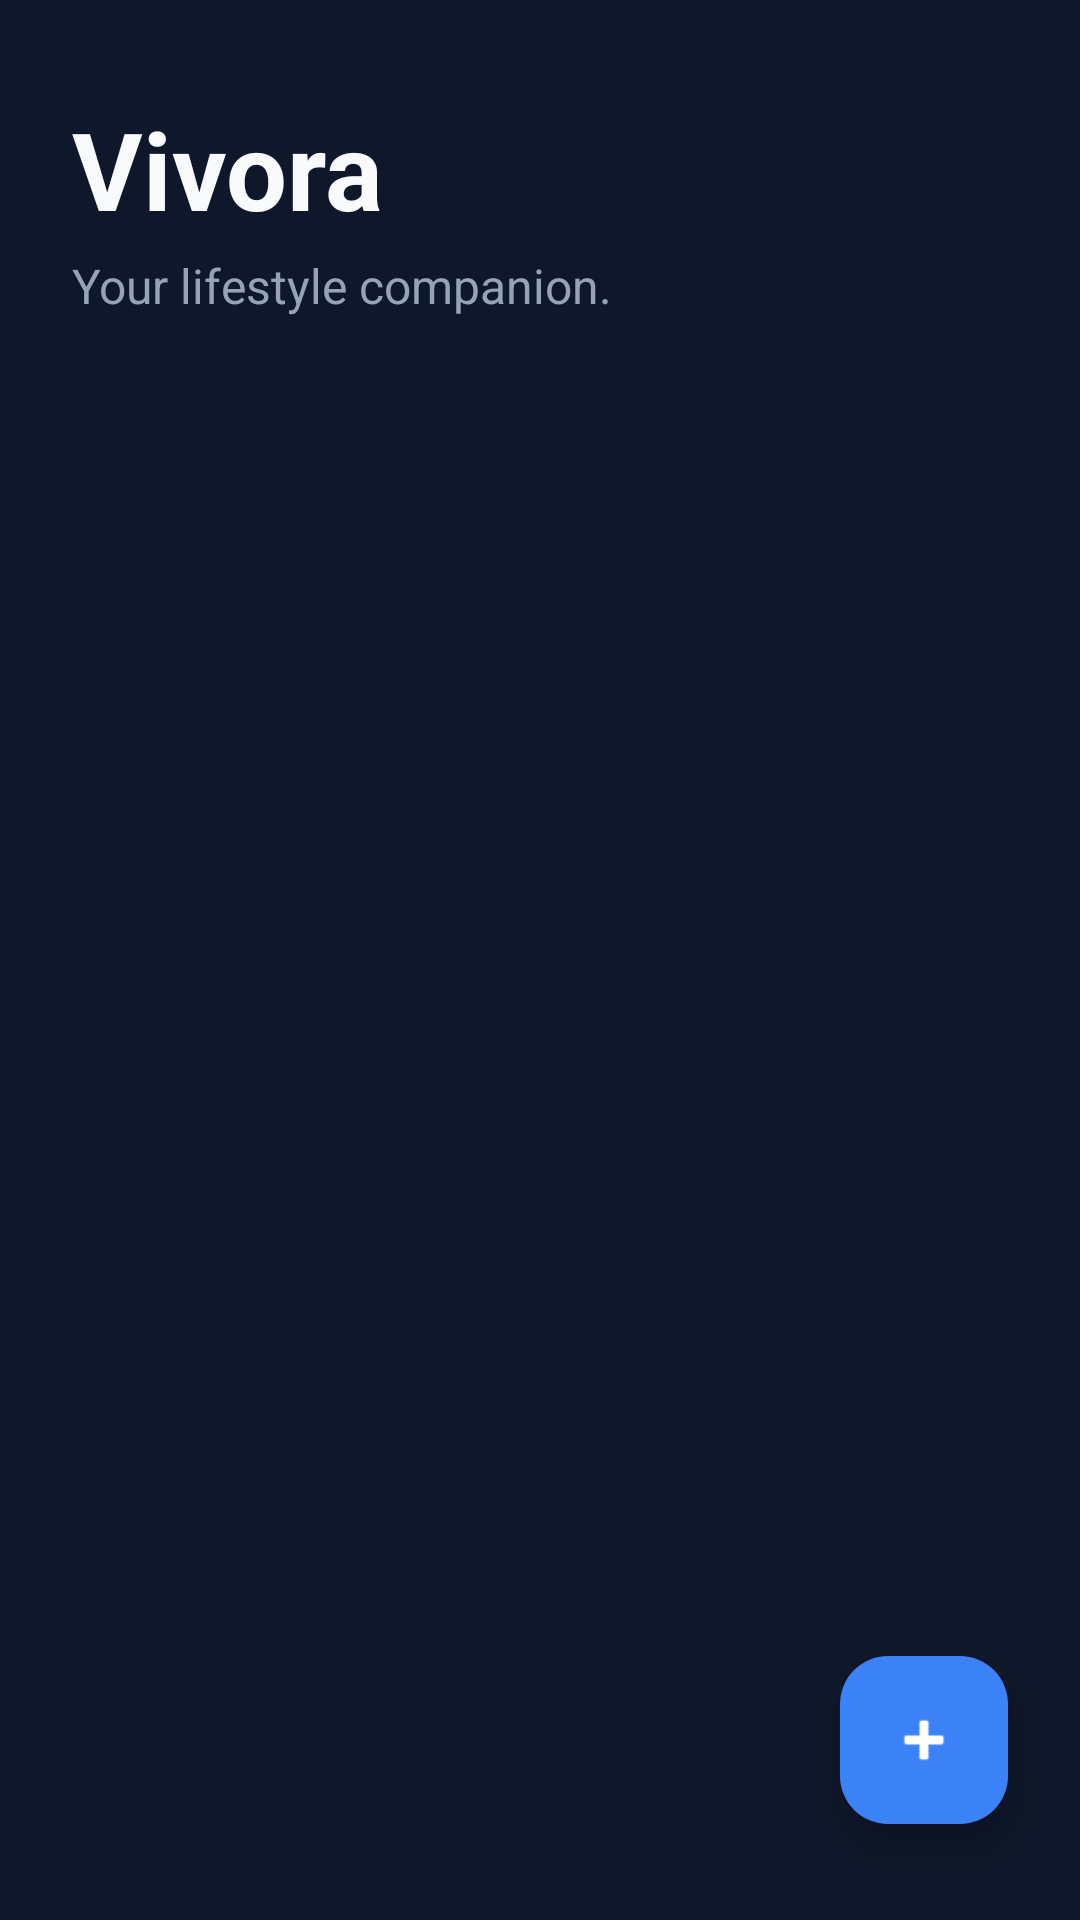

Screen size 1080 × 1920. Icon name, then its center in pixels as [x,y]:
Add Alarm: [924,1740]
